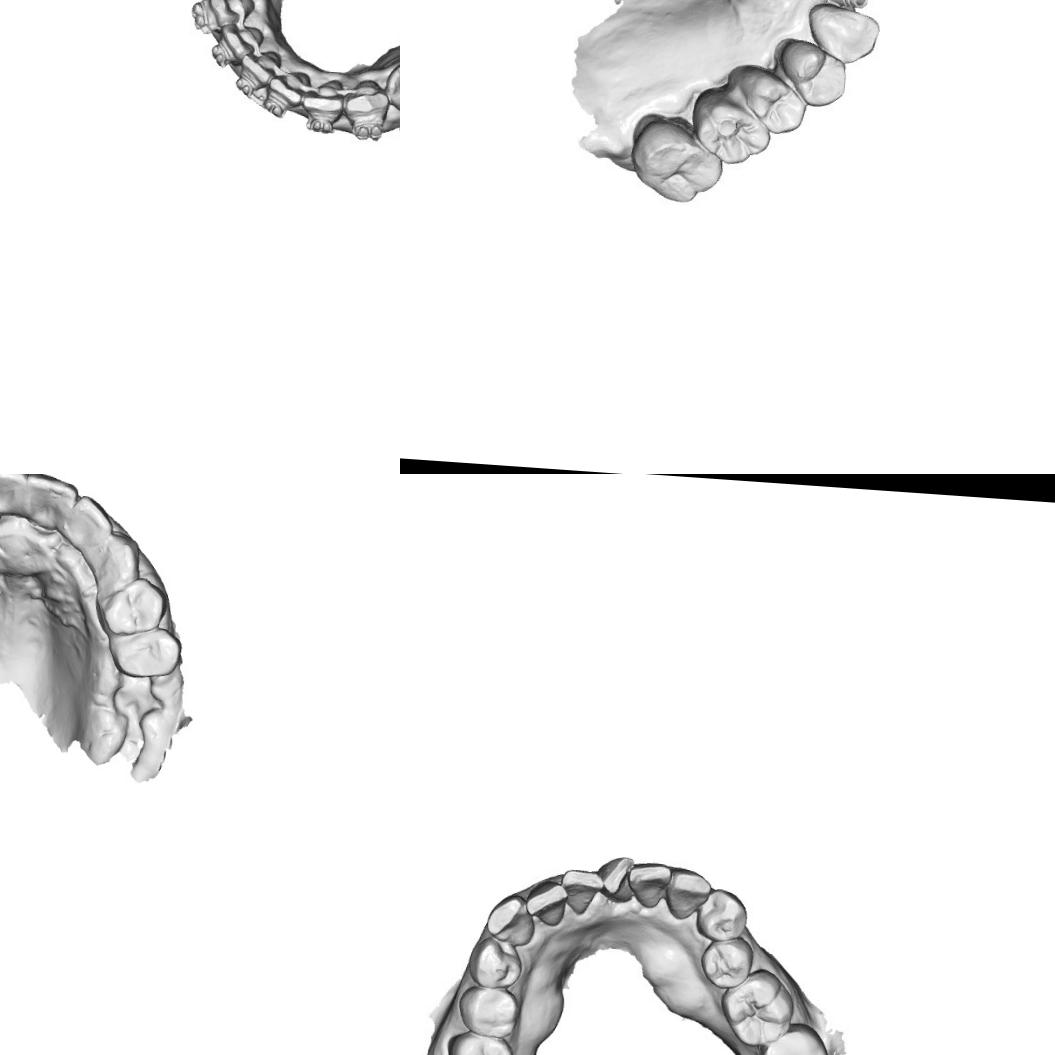canine: (806, 1, 882, 65), (481, 894, 538, 944), (661, 866, 707, 923), (100, 528, 144, 586), (345, 77, 386, 123), (209, 0, 254, 29)
implant: (819, 0, 874, 11)
incisor: (23, 474, 77, 524), (69, 493, 113, 549), (627, 858, 669, 906), (531, 880, 571, 928), (219, 21, 262, 61), (304, 78, 342, 119), (563, 868, 600, 910), (270, 70, 308, 105), (0, 474, 31, 516), (602, 856, 634, 895), (241, 54, 282, 84)
molar: (626, 113, 726, 206), (688, 92, 772, 170), (724, 976, 792, 1044), (442, 1029, 517, 1055), (762, 1030, 828, 1055)
premolar: (776, 34, 850, 110), (738, 64, 812, 137), (104, 622, 185, 682), (98, 572, 170, 638), (465, 936, 522, 990), (462, 990, 514, 1038), (702, 888, 749, 939), (702, 942, 750, 986), (388, 63, 400, 106)
